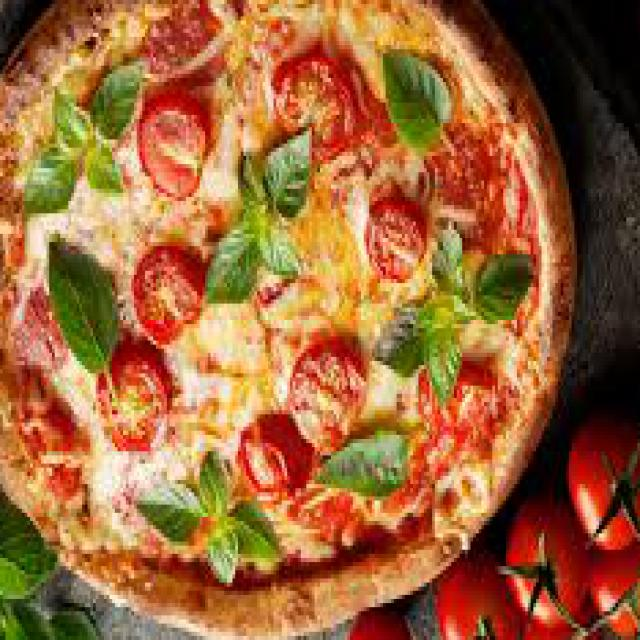pizza: (0, 3, 587, 639)
